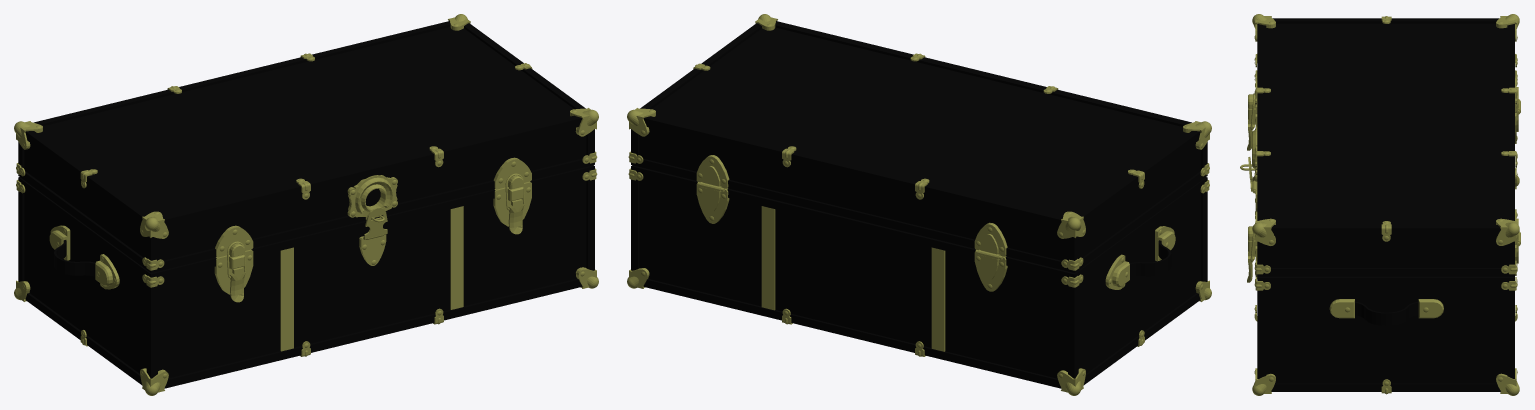
The model's file is trunk-large.obj.
3 renders of one model, left to right at view 1: azimuth 30°, elevation 25°; view 2: azimuth 150°, elevation 25°; view 3: azimuth 270°, elevation 25°, orthographic. The views are drawn at different scales.
Parts seen in each view (by area): view 1: Trunk_LG_sides, Trunk_LG_edges, Trunk_LG_hdware; view 2: Trunk_LG_sides, Trunk_LG_edges, Trunk_LG_hdware; view 3: Trunk_LG_sides, Trunk_LG_edges, Trunk_LG_hdware.
Part boxes in pixels (bbox=[...]): Trunk_LG_sides: bbox=[24, 27, 586, 378]; Trunk_LG_edges: bbox=[18, 21, 594, 388]; Trunk_LG_hdware: bbox=[14, 14, 598, 395]; Trunk_LG_sides: bbox=[639, 27, 1200, 378]; Trunk_LG_edges: bbox=[631, 21, 1207, 388]; Trunk_LG_hdware: bbox=[627, 14, 1211, 395]; Trunk_LG_sides: bbox=[1266, 23, 1507, 383]; Trunk_LG_edges: bbox=[1257, 18, 1514, 391]; Trunk_LG_hdware: bbox=[1240, 14, 1520, 395].
Size of the model in its own units: 2.01 by 0.6917 by 1.02.
